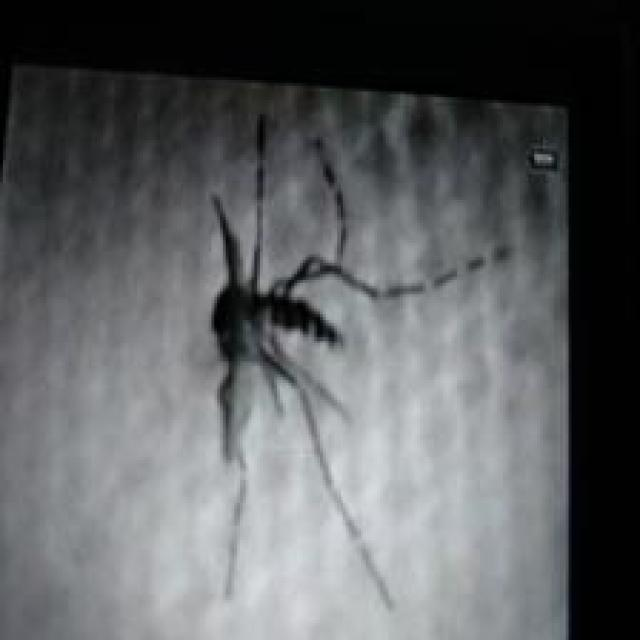Aedes albopictus: (204, 111, 510, 612)
